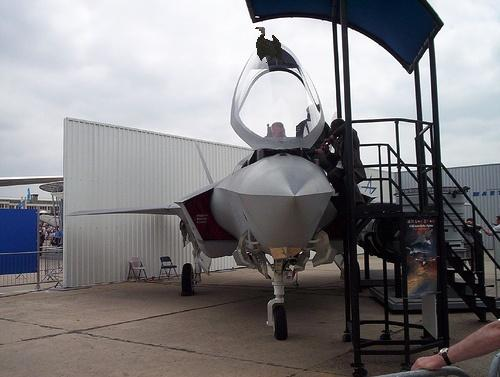tampered: (256, 28, 310, 66)
